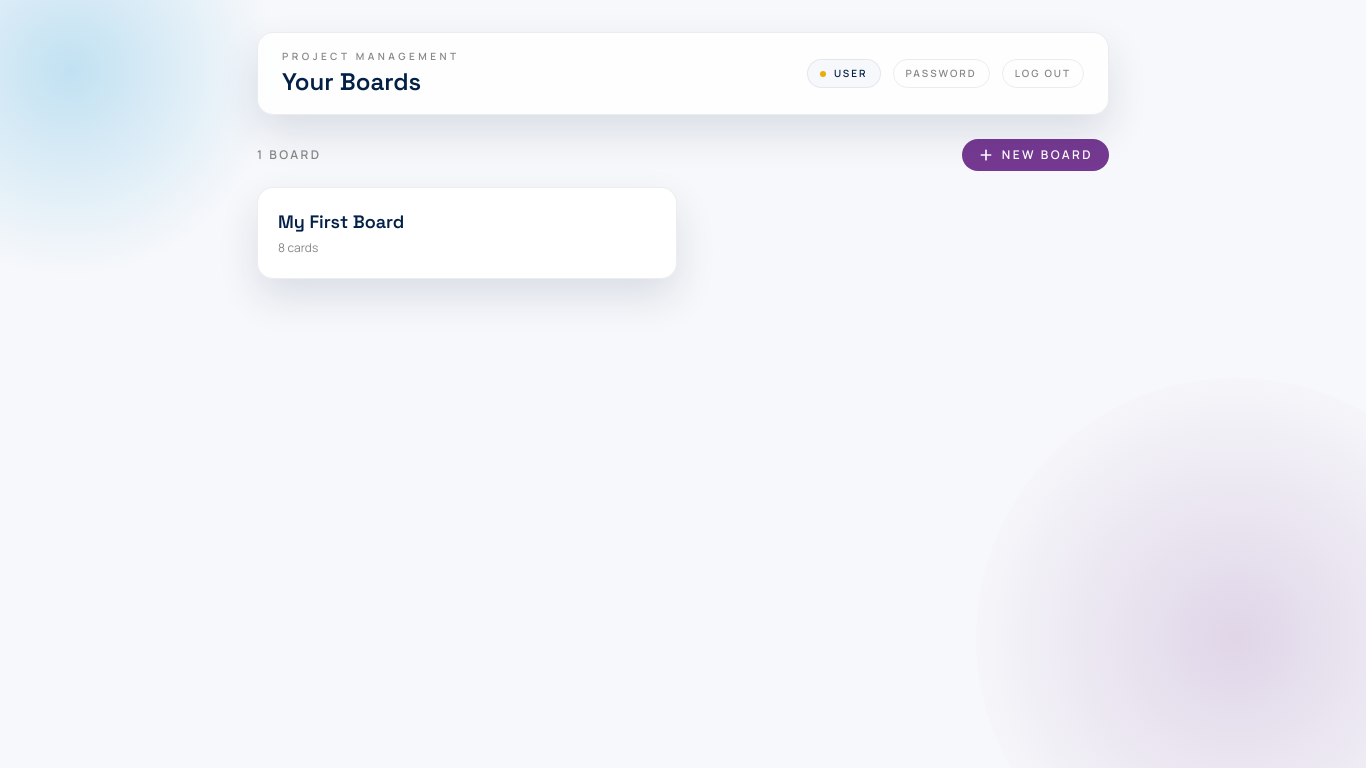
Test: BoardSelector › creates a new board
This screenshot has width=1366, height=768.
Check: the list with test id "boards-list" is shown, box [257,187,677,279]
Click the button with test id "new-board-button": coordinates (1035, 155) [962,139,1109,171]
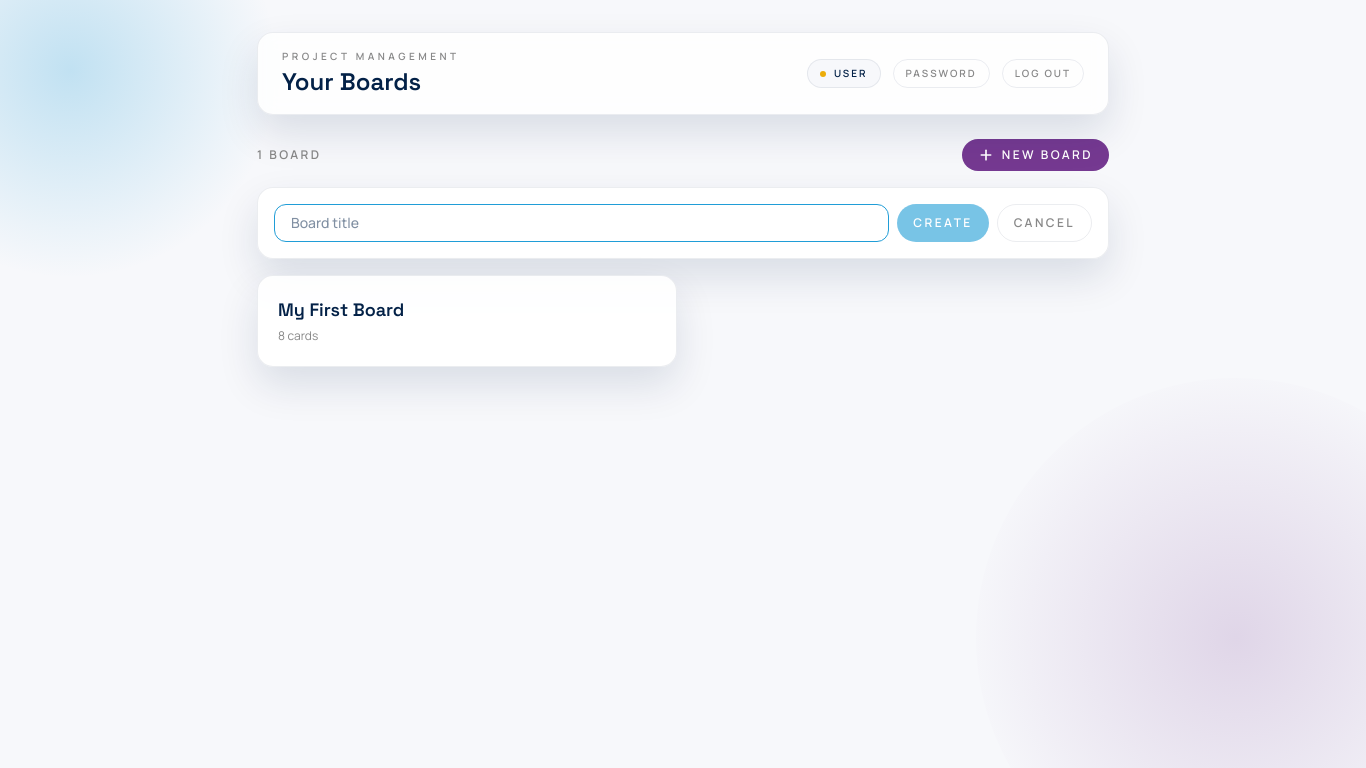
In the field with test id "new-board-input": coordinates (582, 223) [274,204,889,242], type "Sprint 2"
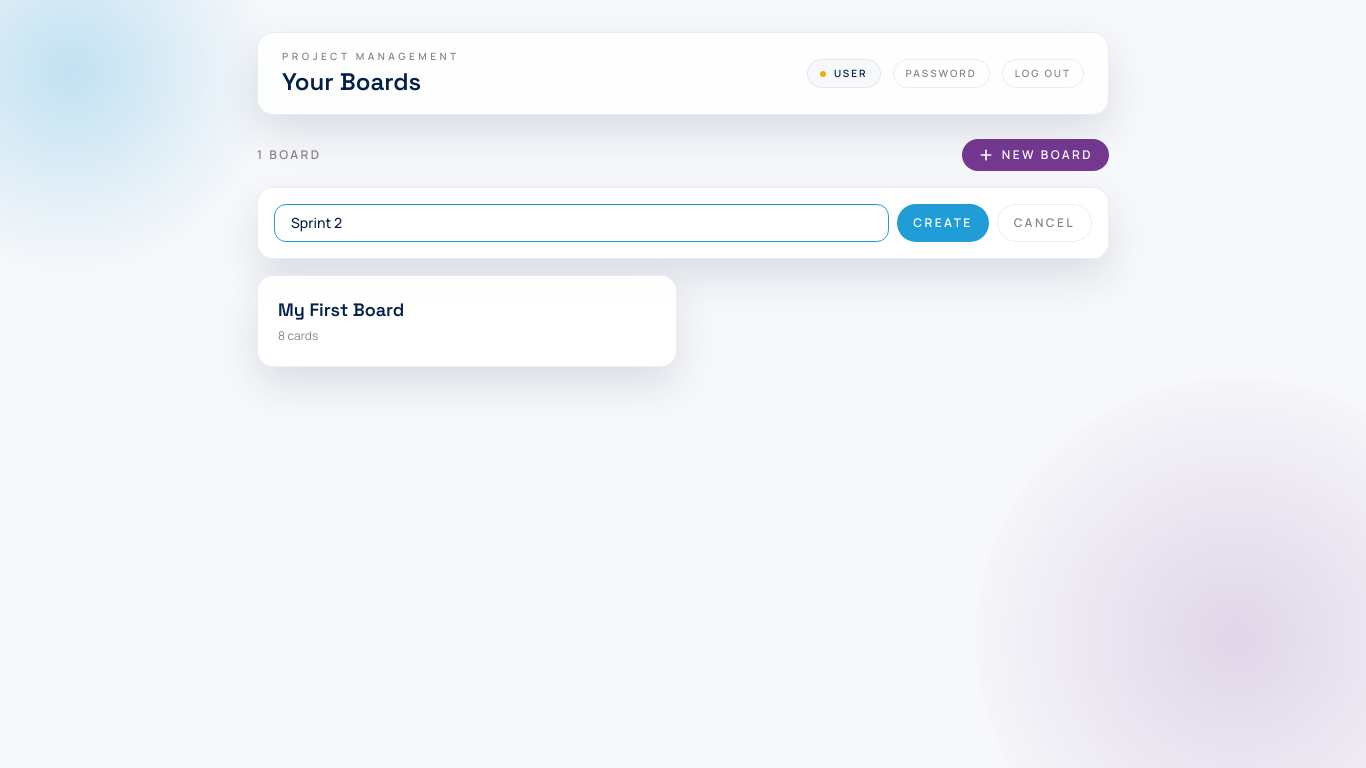
Click the button with test id "create-board-submit": coordinates (943, 223) [897,204,989,242]
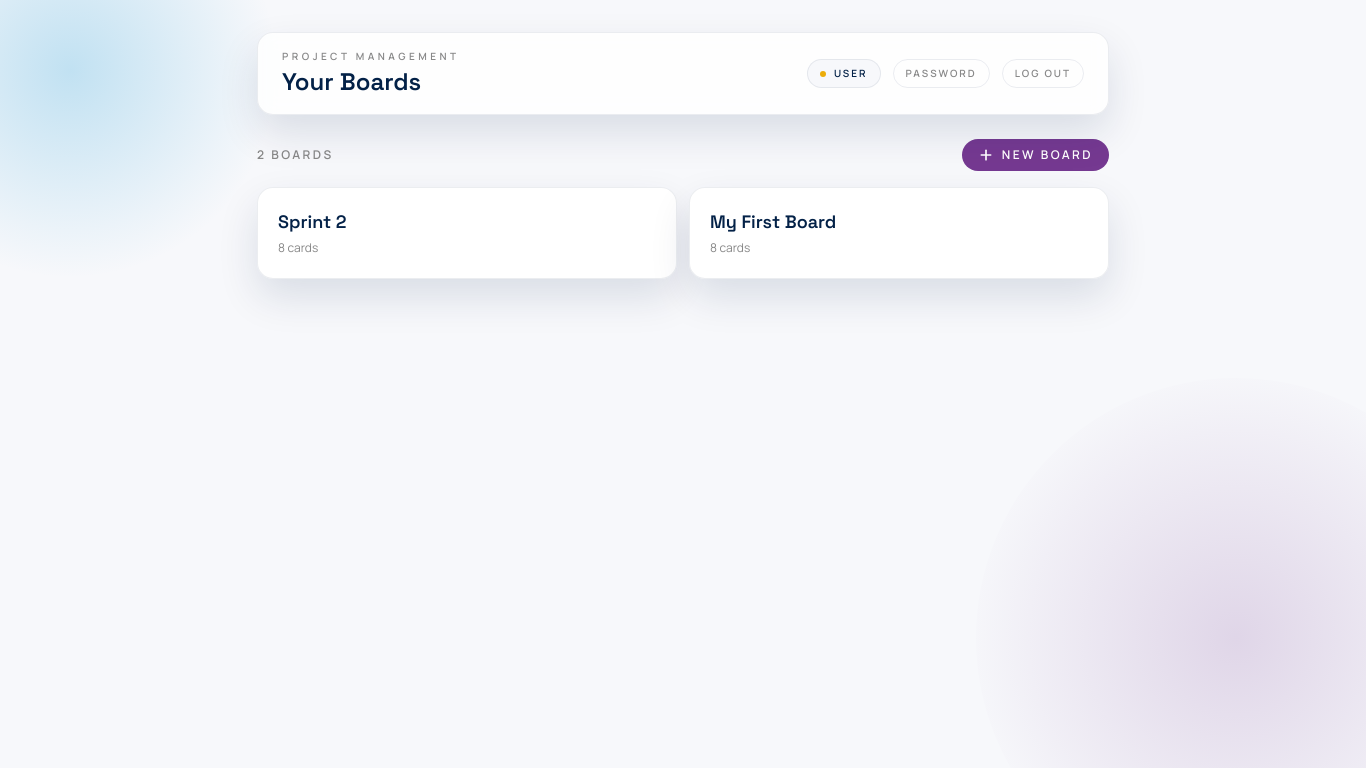
Check: the text "Sprint 2" is shown, box [278,210,346,233]
